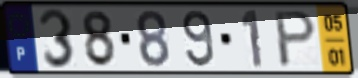1: (239, 8, 265, 71)
3: (38, 7, 77, 71)
8: (134, 8, 172, 69), (80, 9, 118, 69)
9: (180, 8, 216, 69)
P: (273, 8, 319, 70)
